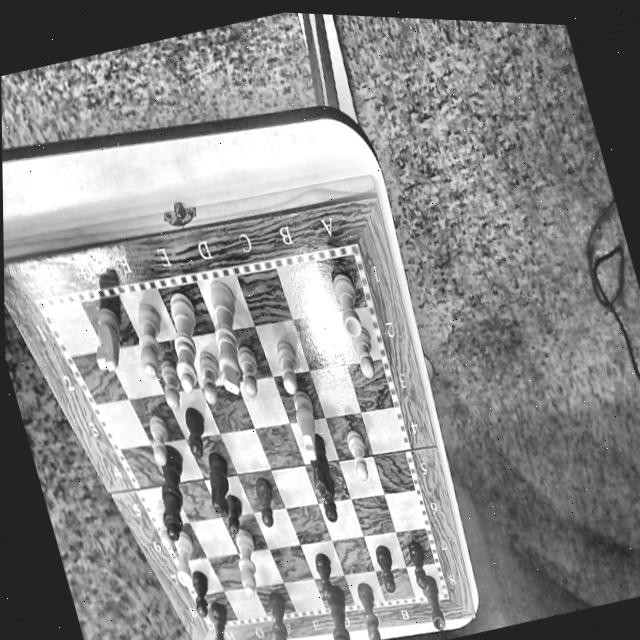chessboard: (44, 256, 442, 623)
